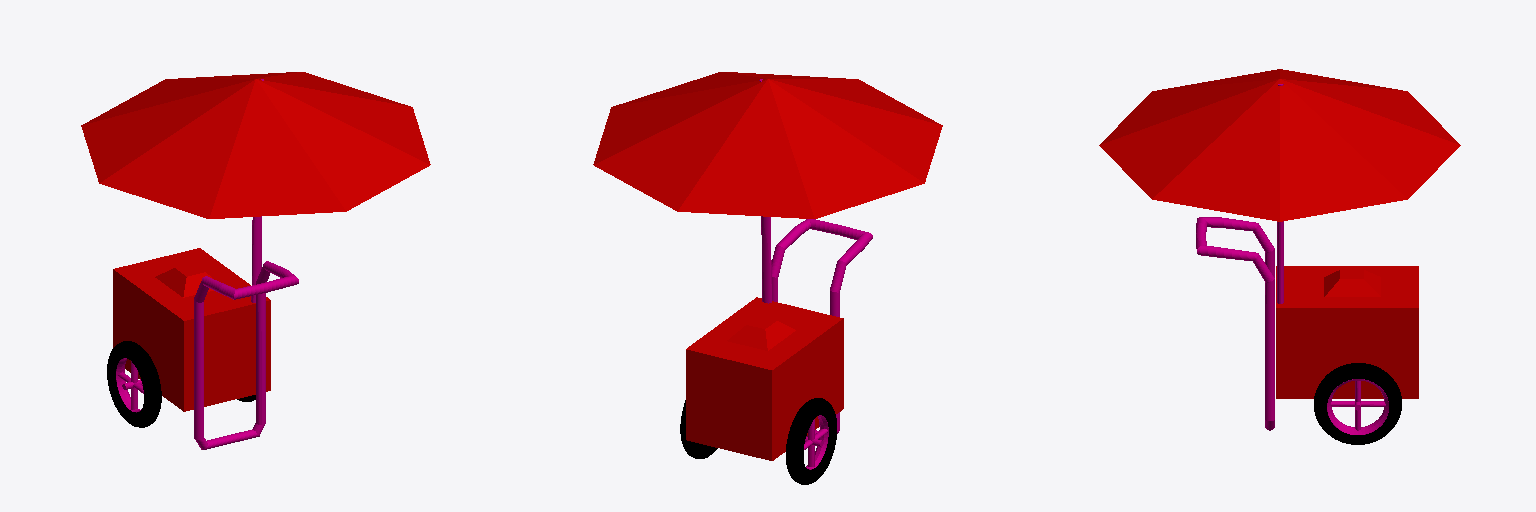
File: Carrinho_Picole.obj
3 renders of one model, left to right at view 1: azimuth 30°, elevation 25°; view 2: azimuth 150°, elevation 25°; view 3: azimuth 270°, elevation 25°, orthographic.
Parts seen in each view (by area): view 1: Cone, Cube, Cylinder.001, roda, Cube.001, Cylinder.007, Cylinder.002; view 2: Cone, Cube, roda, Cylinder.001, Cube.001, Cylinder.002, Cylinder.007, roda.001; view 3: Cone, Cube, Cylinder.001, roda.001, Cube.001, Cylinder.006, Cylinder.002.
Part boxes in pixels (x1,y1,x2,y2): Cone: (81, 72, 430, 218); Cube: (113, 248, 270, 411); Cylinder.001: (194, 261, 298, 449); roda: (107, 341, 161, 427); Cube.001: (155, 263, 213, 297); Cylinder.007: (116, 358, 143, 412); Cylinder.002: (251, 79, 263, 302); Cone: (593, 72, 942, 218); Cube: (686, 297, 843, 460); roda: (786, 398, 836, 484); Cylinder.001: (772, 219, 872, 436); Cube.001: (727, 316, 795, 350); Cylinder.002: (759, 79, 771, 303); Cylinder.007: (804, 415, 828, 469); roda.001: (680, 400, 717, 458); Cone: (1099, 69, 1460, 221); Cube: (1276, 266, 1418, 398); Cylinder.001: (1196, 217, 1274, 430); roda.001: (1314, 363, 1401, 444); Cube.001: (1324, 270, 1380, 296); Cylinder.006: (1327, 379, 1388, 434); Cylinder.002: (1277, 84, 1283, 303).
Bounding box in the file's own units: 11.12 × 12 × 11.12.